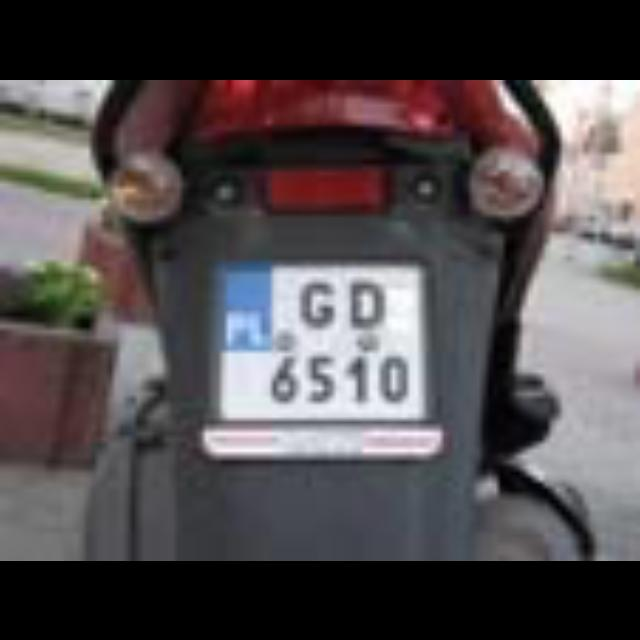pl_license_plate: (210, 255, 424, 413)
